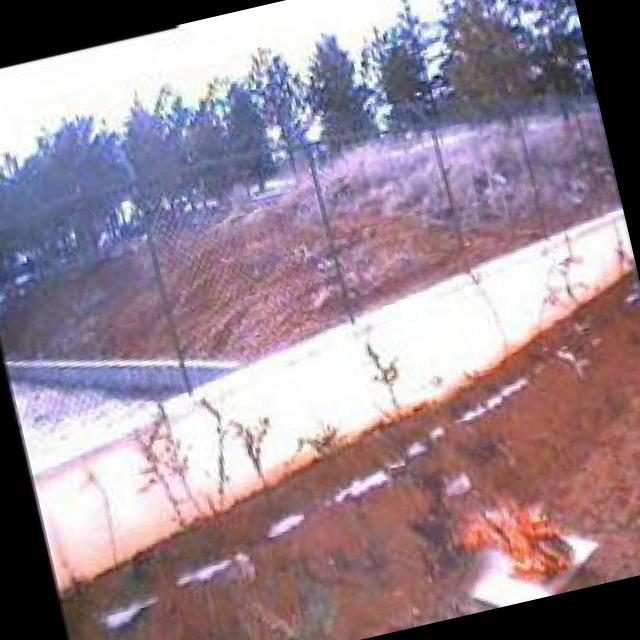Fire: (446, 478, 586, 604)
